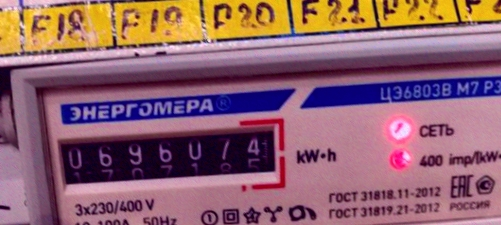0: (64, 144, 84, 169), (186, 135, 203, 161)
4: (244, 132, 261, 155)
5: (246, 157, 263, 173)
6: (157, 137, 175, 164), (96, 143, 114, 167)
7: (216, 135, 234, 161)
9: (126, 140, 143, 167)
screen: (47, 114, 291, 196)
